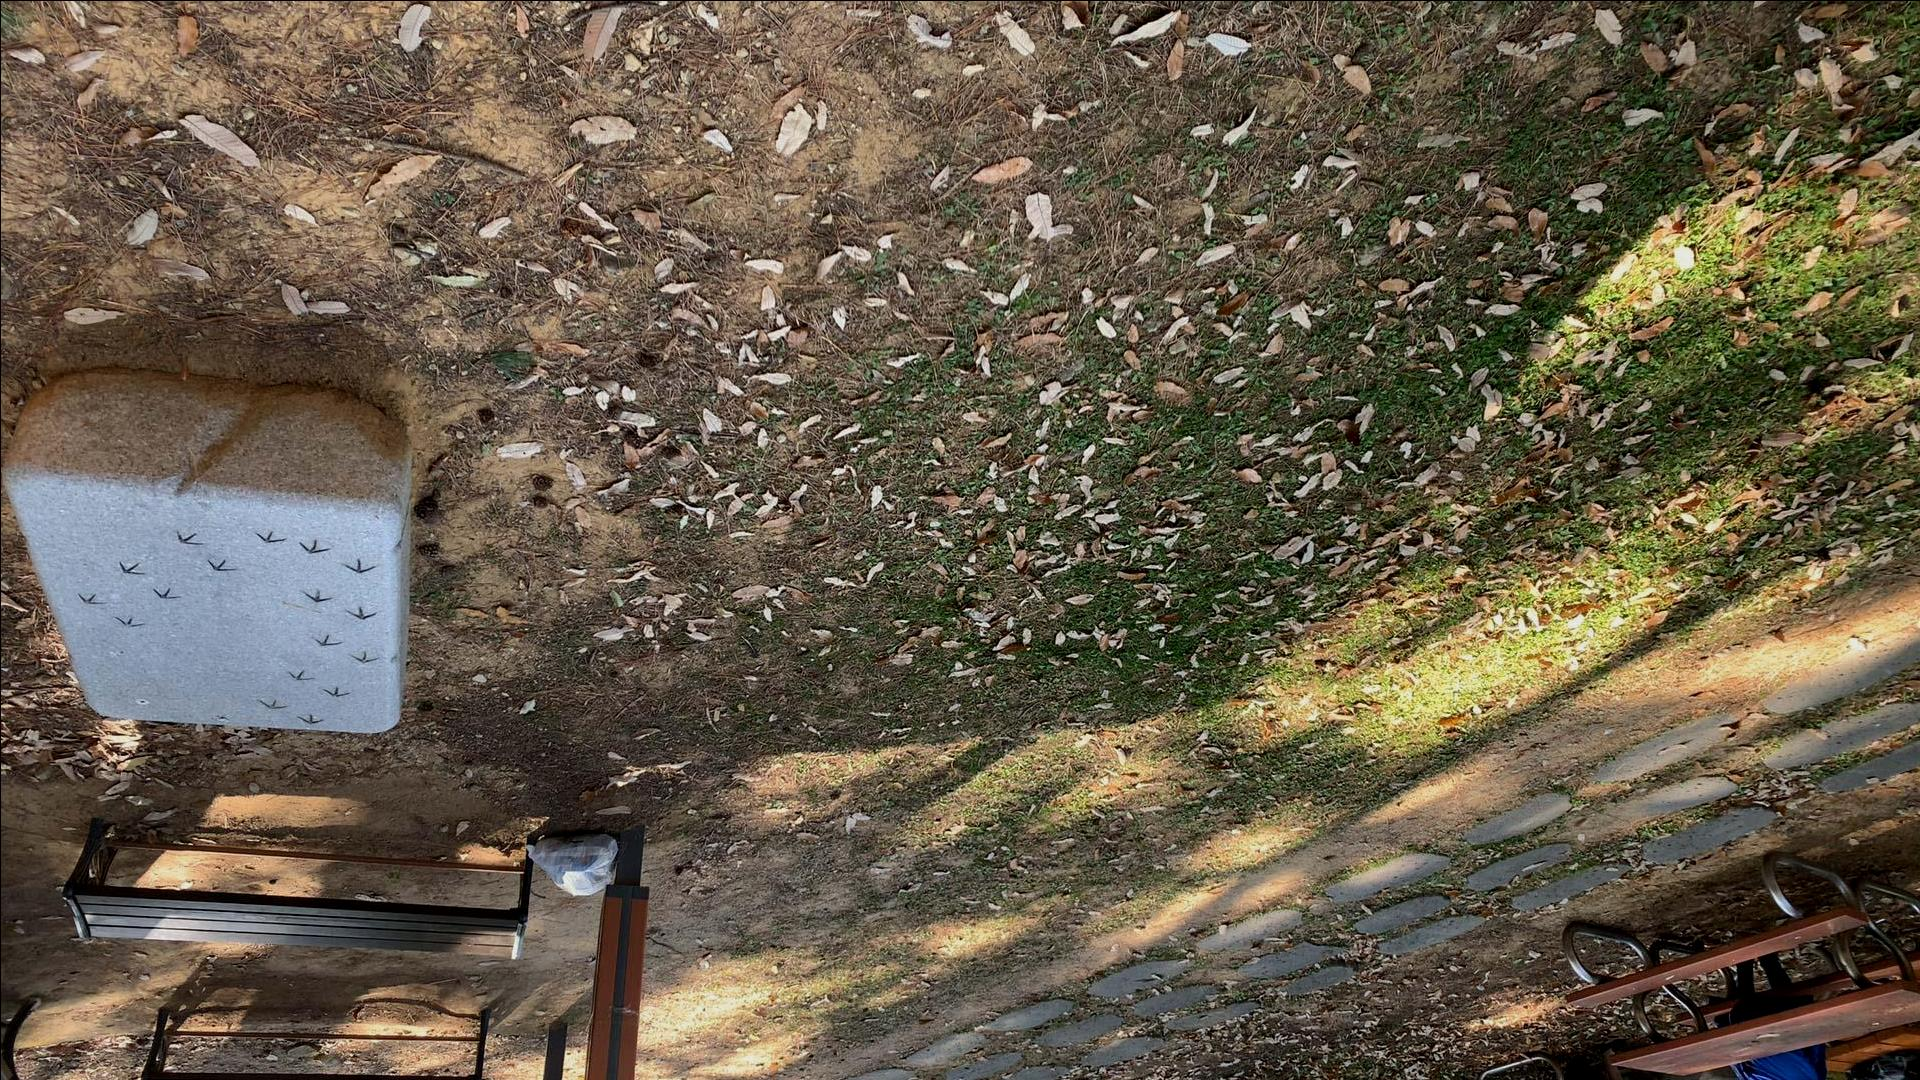white_bag: (520, 829, 622, 898)
